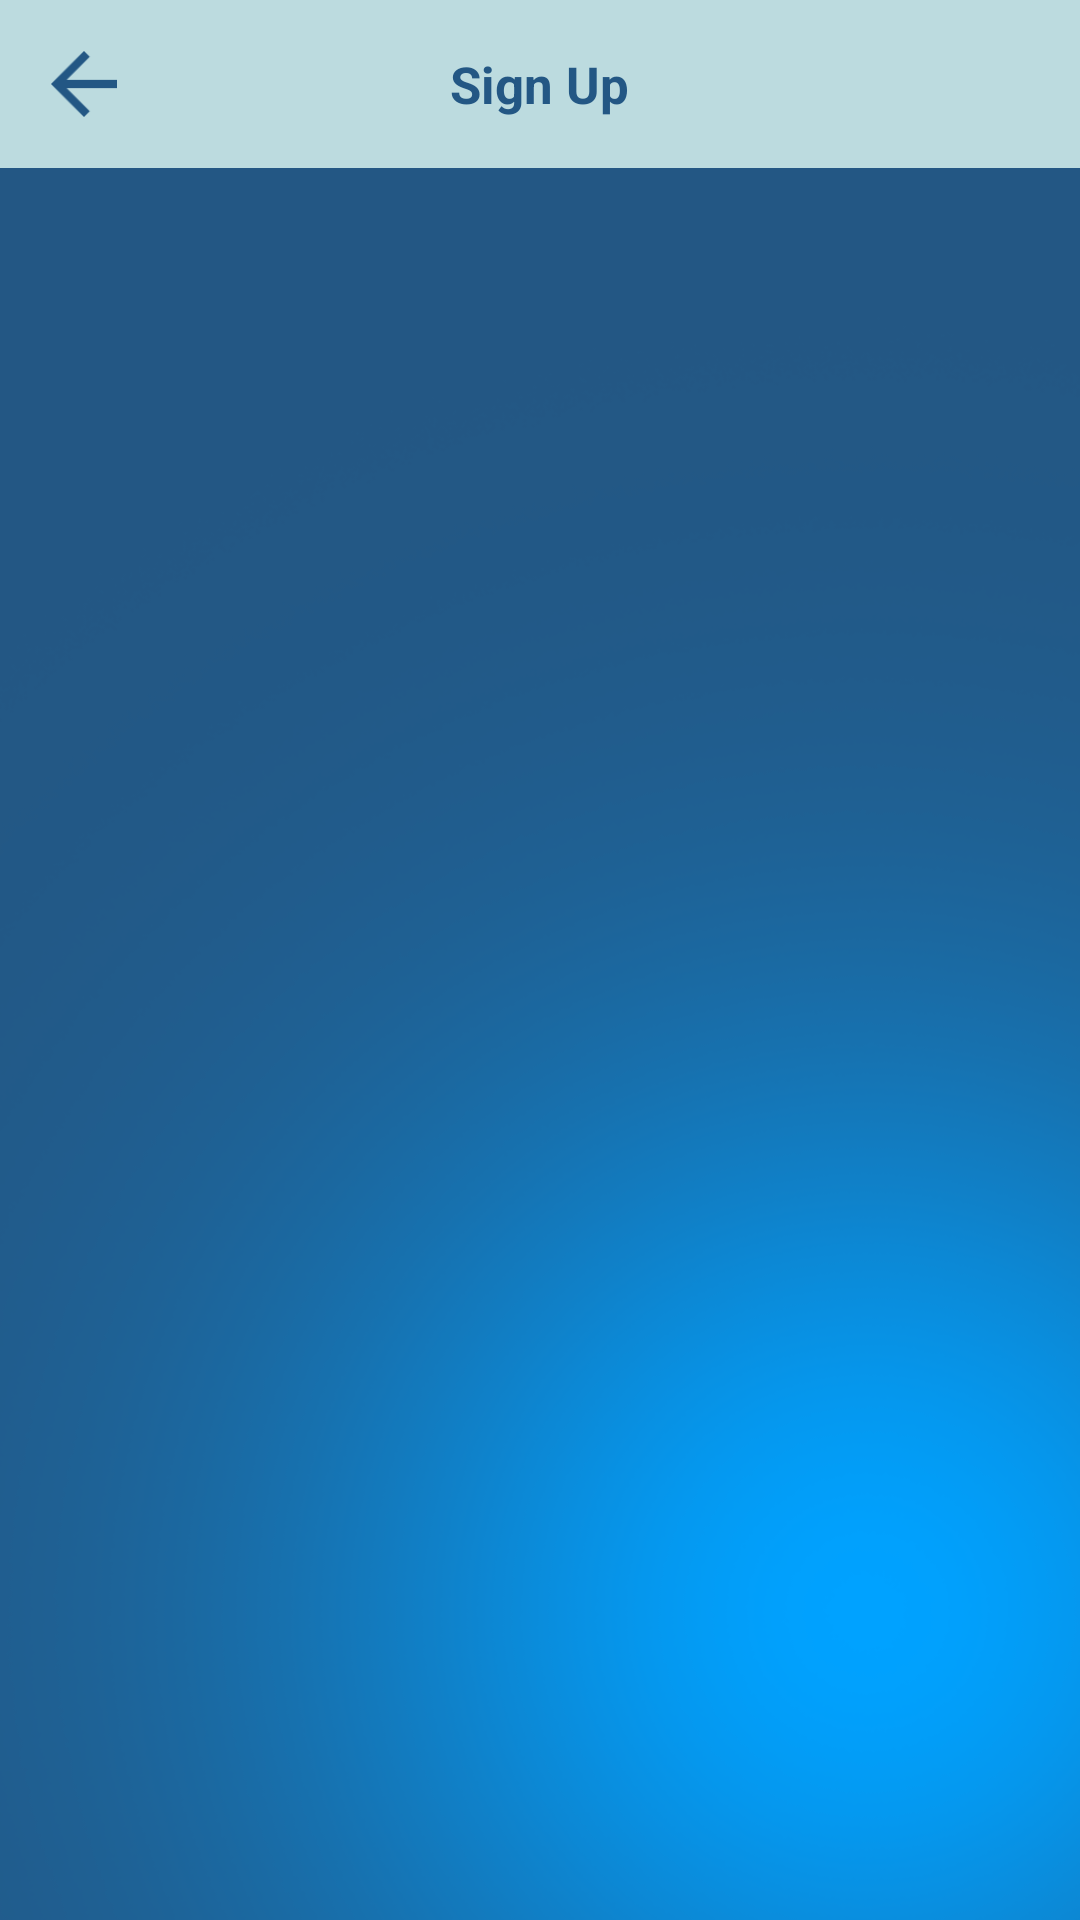

Named icons in this screenshot (1080 × 1920) and their bounding boxes, (x1, y1, x2, y2):
back arrow: (51, 51, 117, 117)
